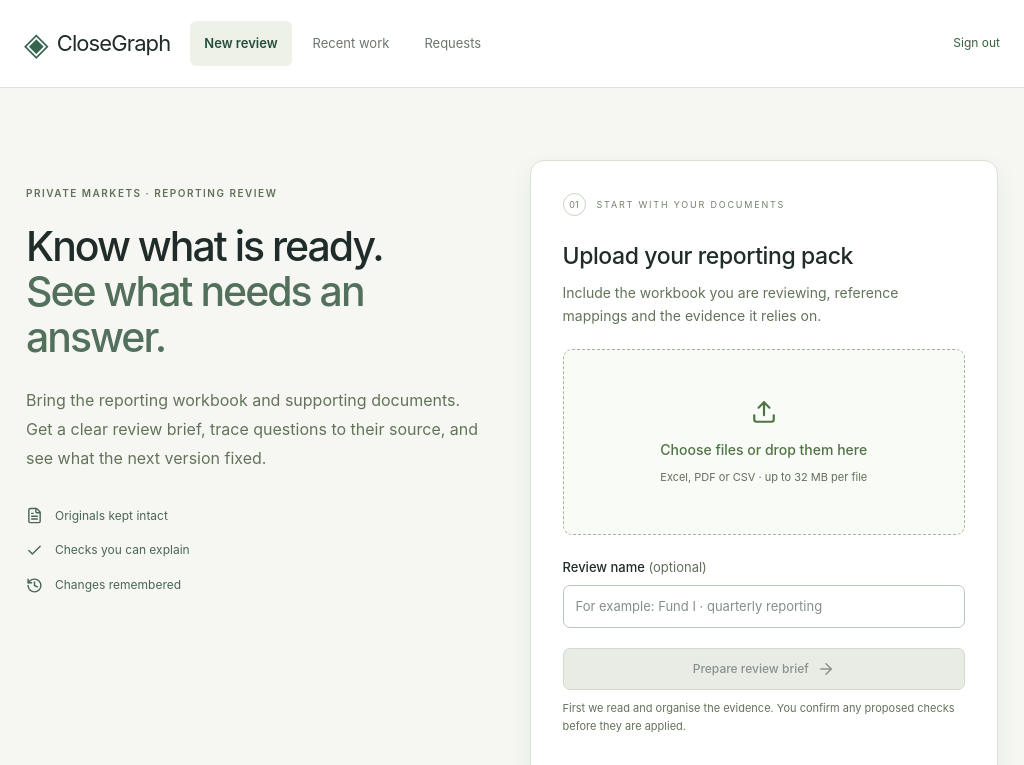
Test: fund review evidence and consent › keeps a finding through download history updates, unless the review is stale (false)
Click the button "Recent work" at (351, 43), box [299,21,403,66]
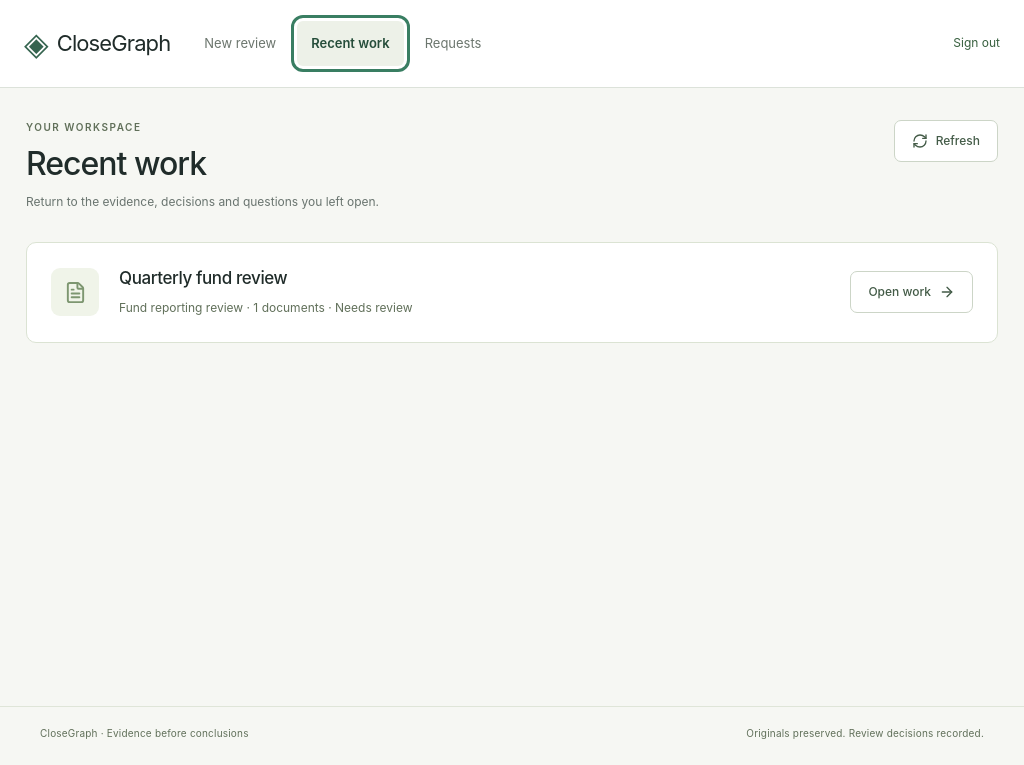
Click the button "Open work" at (912, 292), box [850,271,973,313]
(page scrolled)
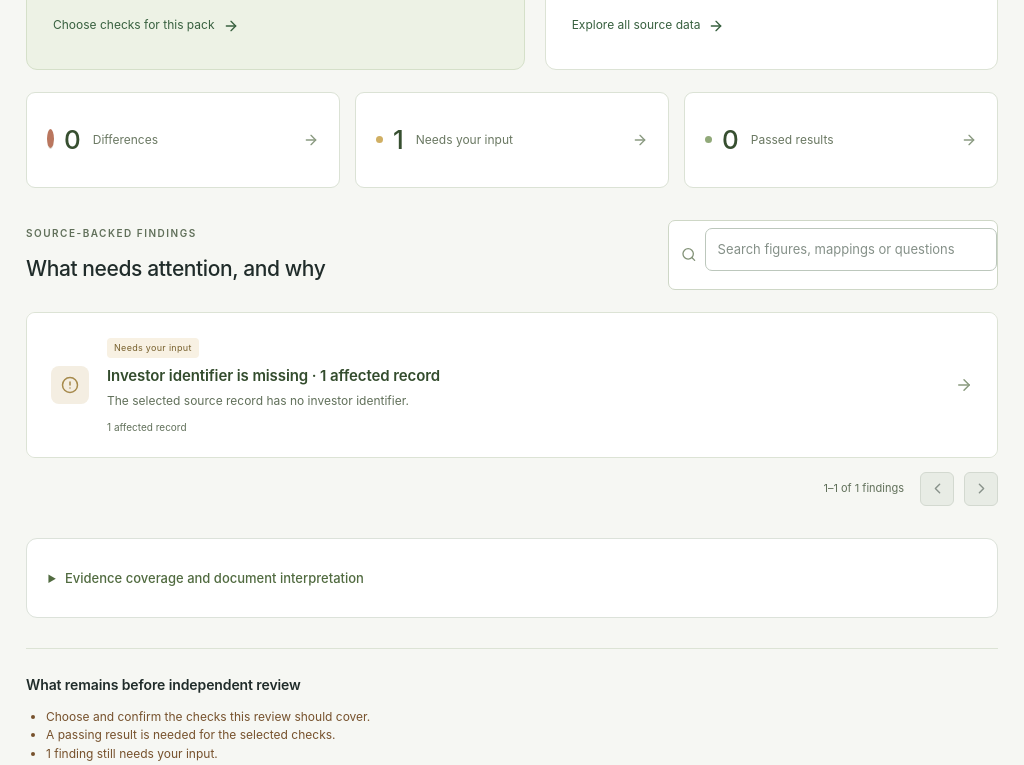
Click the button "Investor identifier is missing" at (70, 385), box [27,313,997,457]
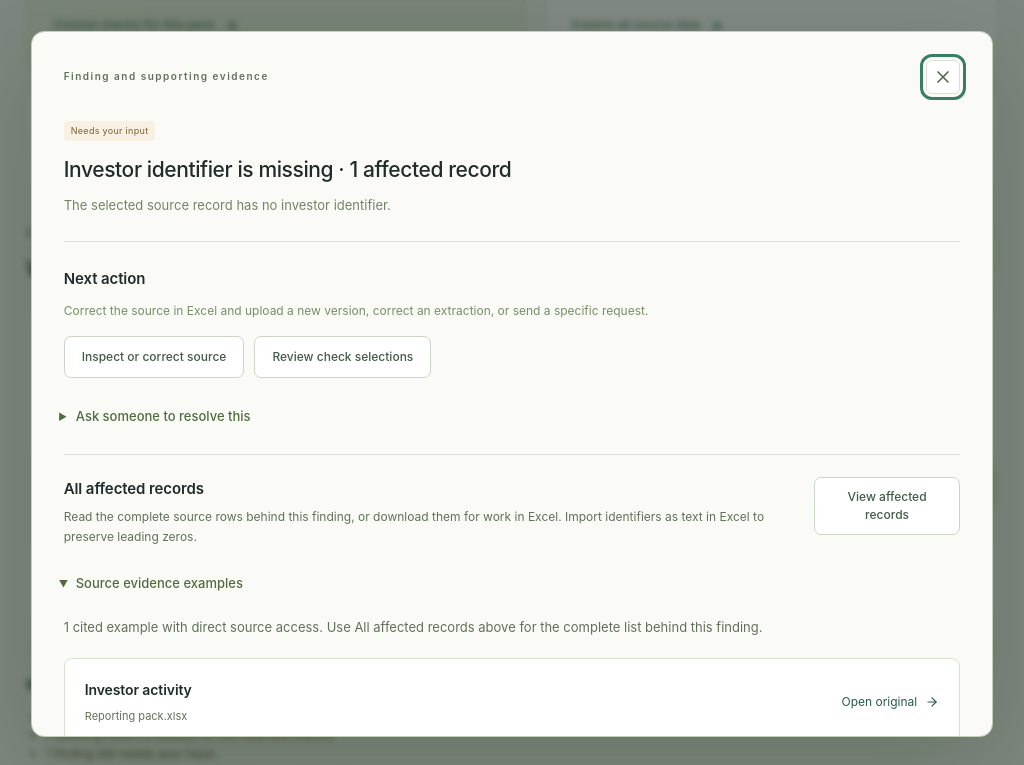
Click the button "View affected records" at (887, 506), box [814,477,960,535]
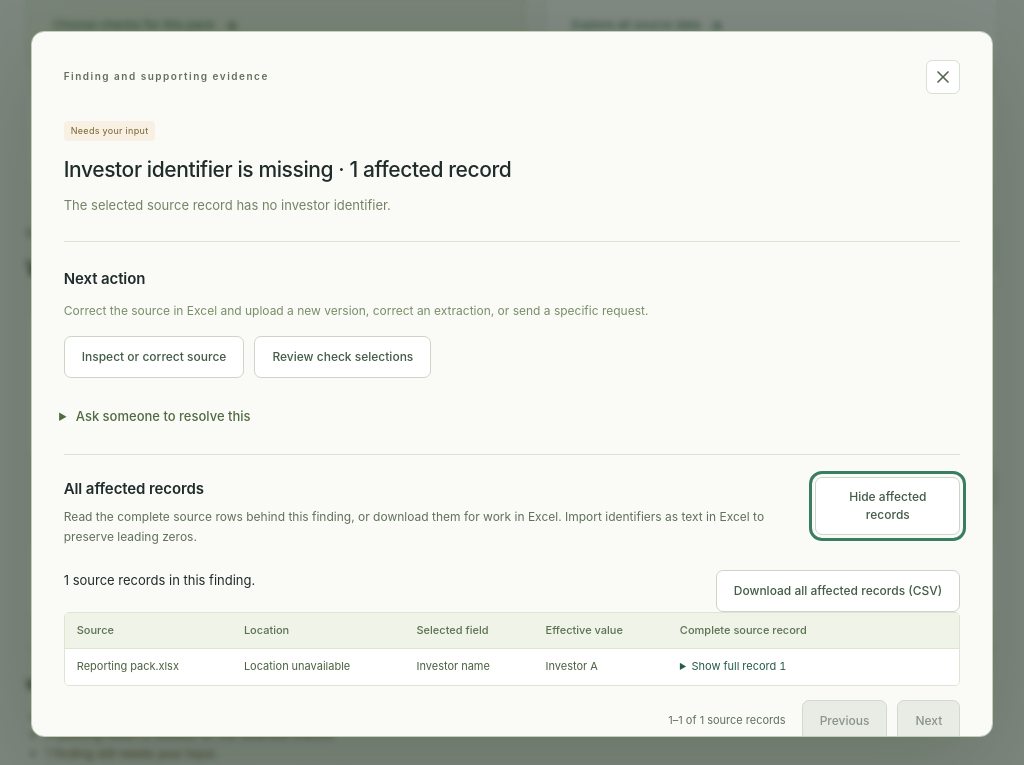
Click the link "Download all affected records (CSV)" at (838, 591), box [716,570,960,612]
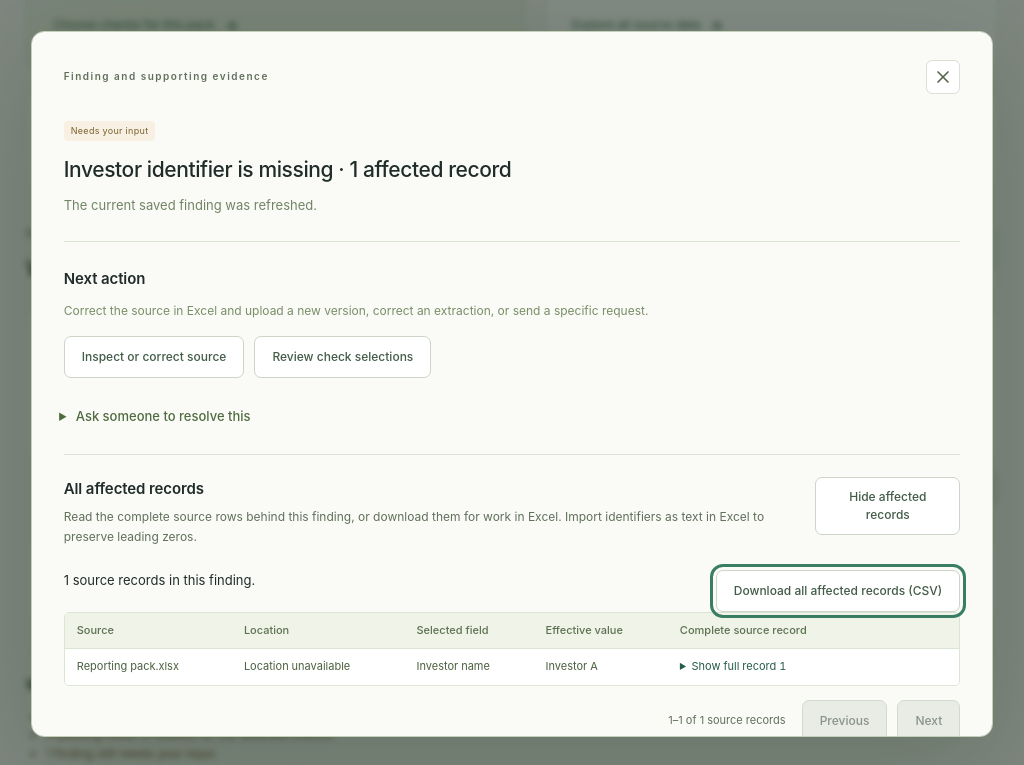
Expected: the button "Hide affected records" is shown, [815,477,960,535]
Expected: the text "The current saved finding was refreshed." is shown, [64,197,317,213]
